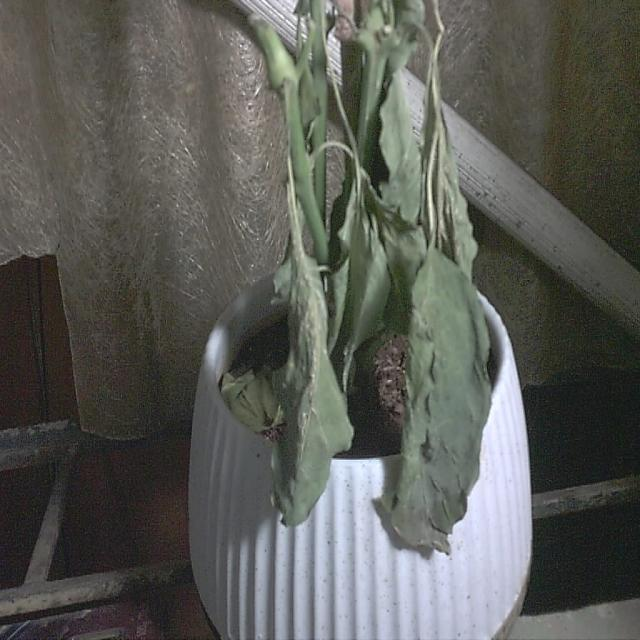Leaf: (383, 248, 491, 556), (269, 218, 355, 527)
